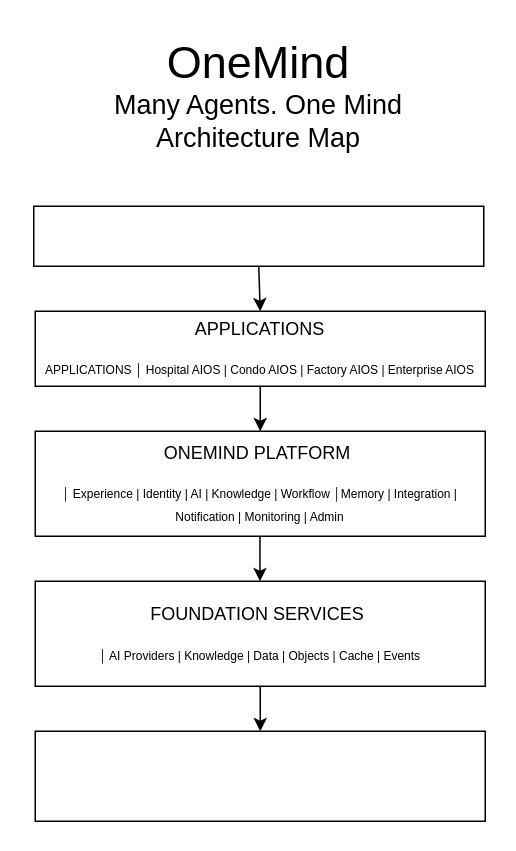
This 516x851 diagram has some shape labels left out. The shapes that lost their labels are listed below. From the top down, each one's centre as x and y in pixels, then its label:
At point (258, 235): "Users Citizen | Employee | Operator | Manager | Administrator | Developer".
At point (259, 775): "I NFRASTRUCTURE │ Cloud | On-Premise | Edge | Containers | Orchestration".
